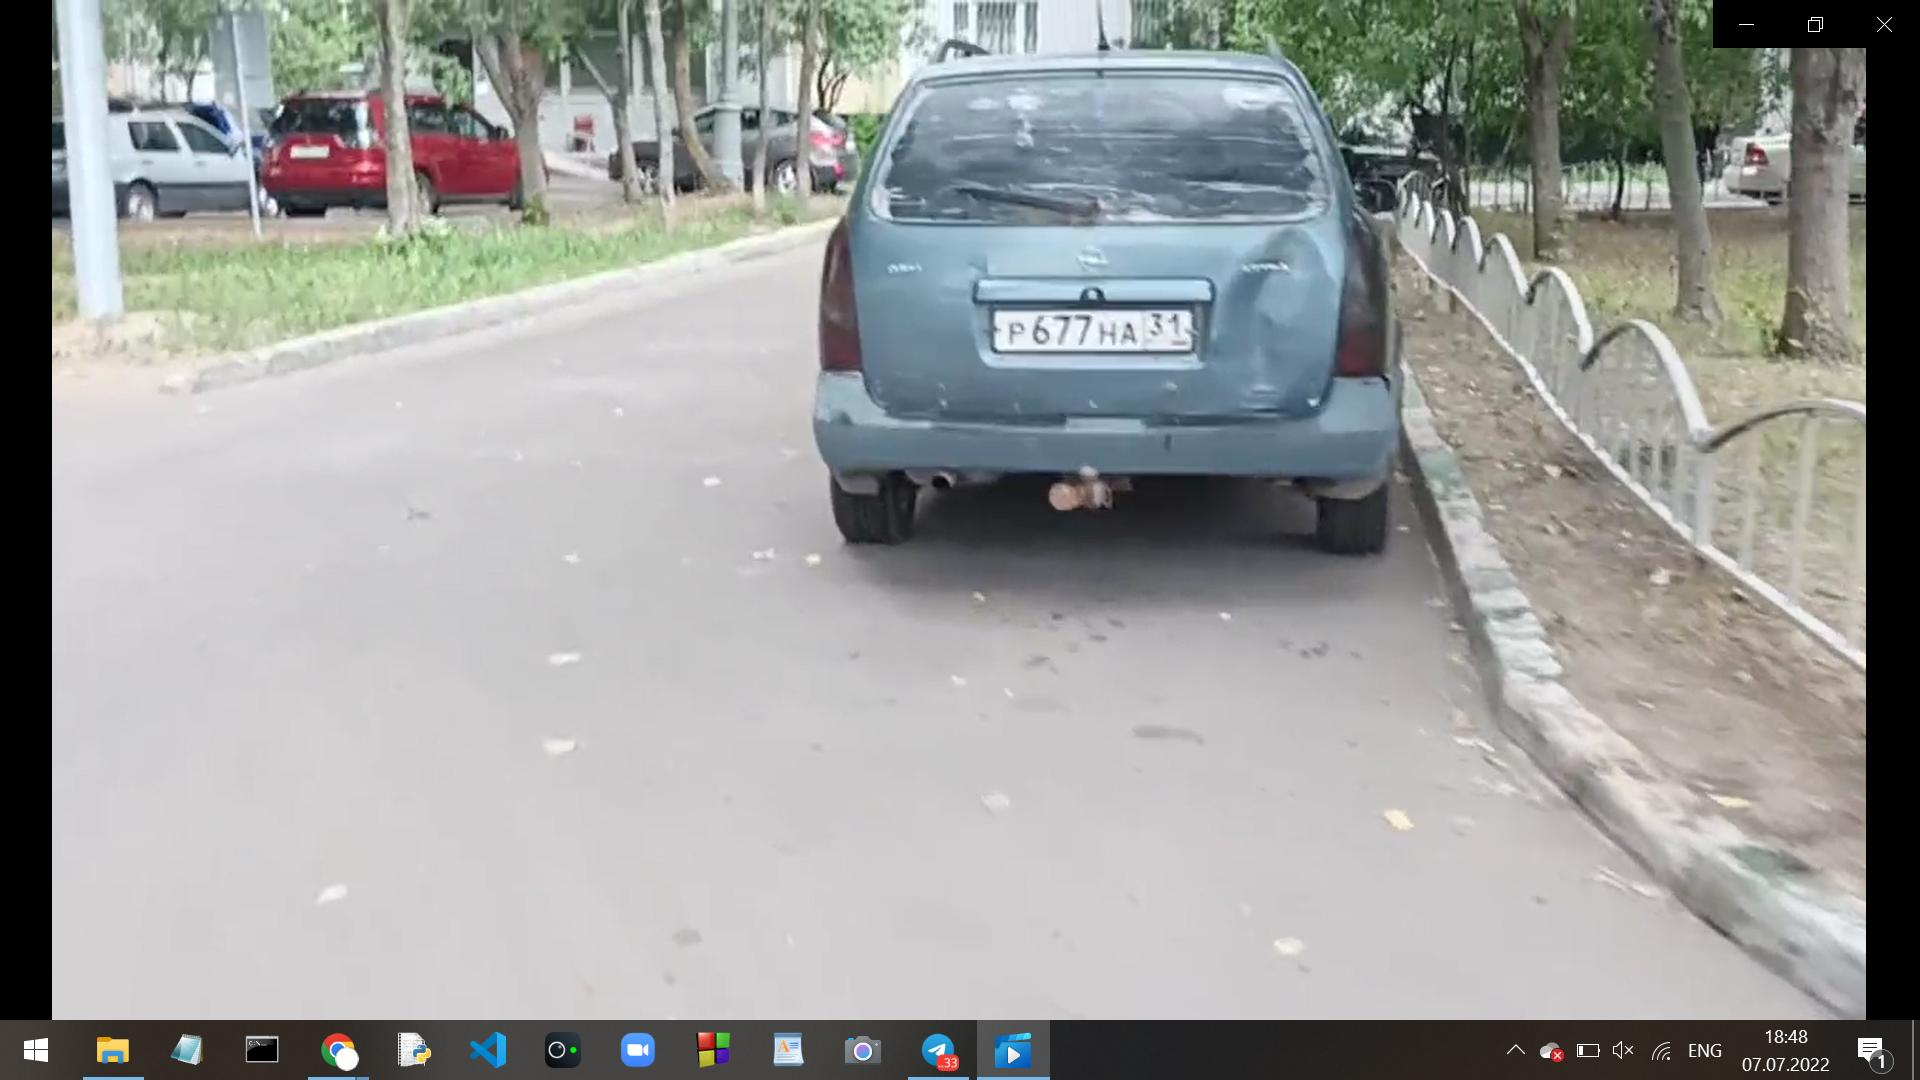plate: (996, 312, 1186, 363)
